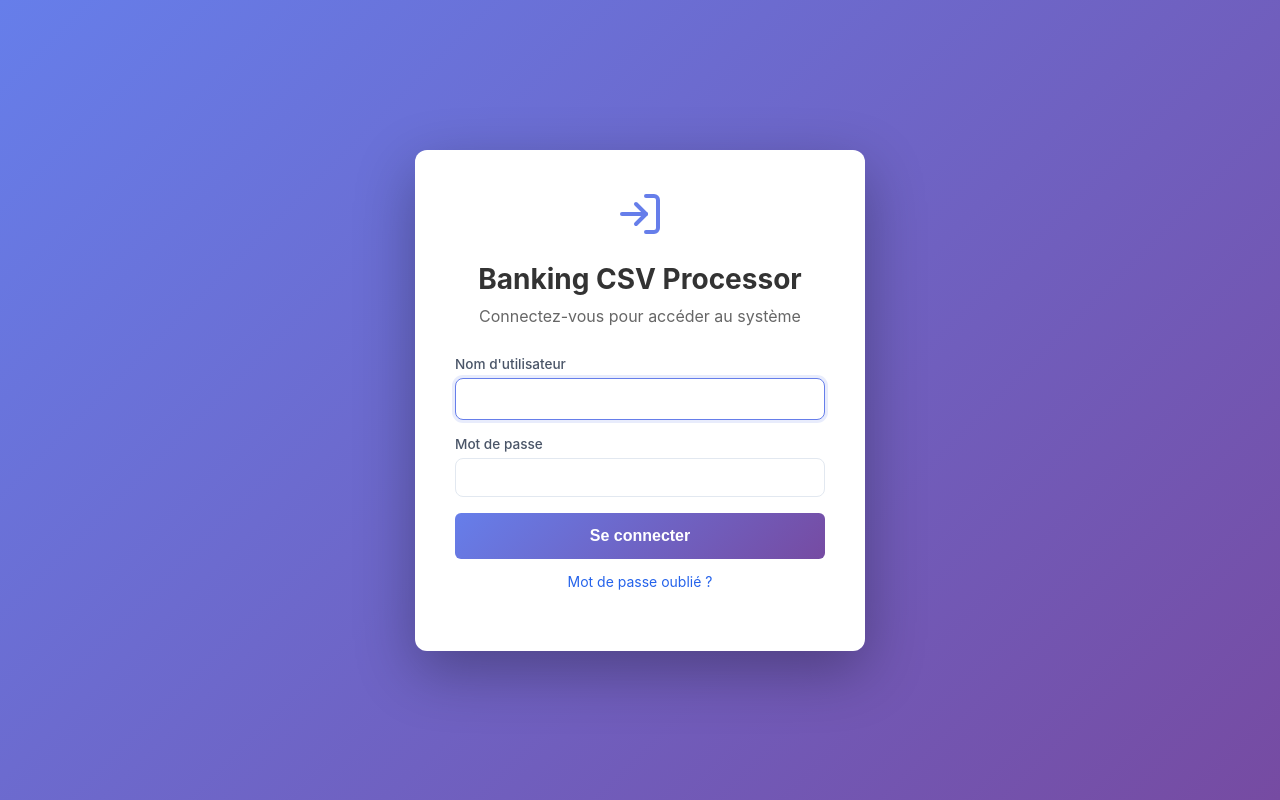
it: Login › shows error message on failed login
Type "wrong" into the field labelled "Nom d'utilisateur" at coordinates (640, 398), box [455, 378, 825, 420]
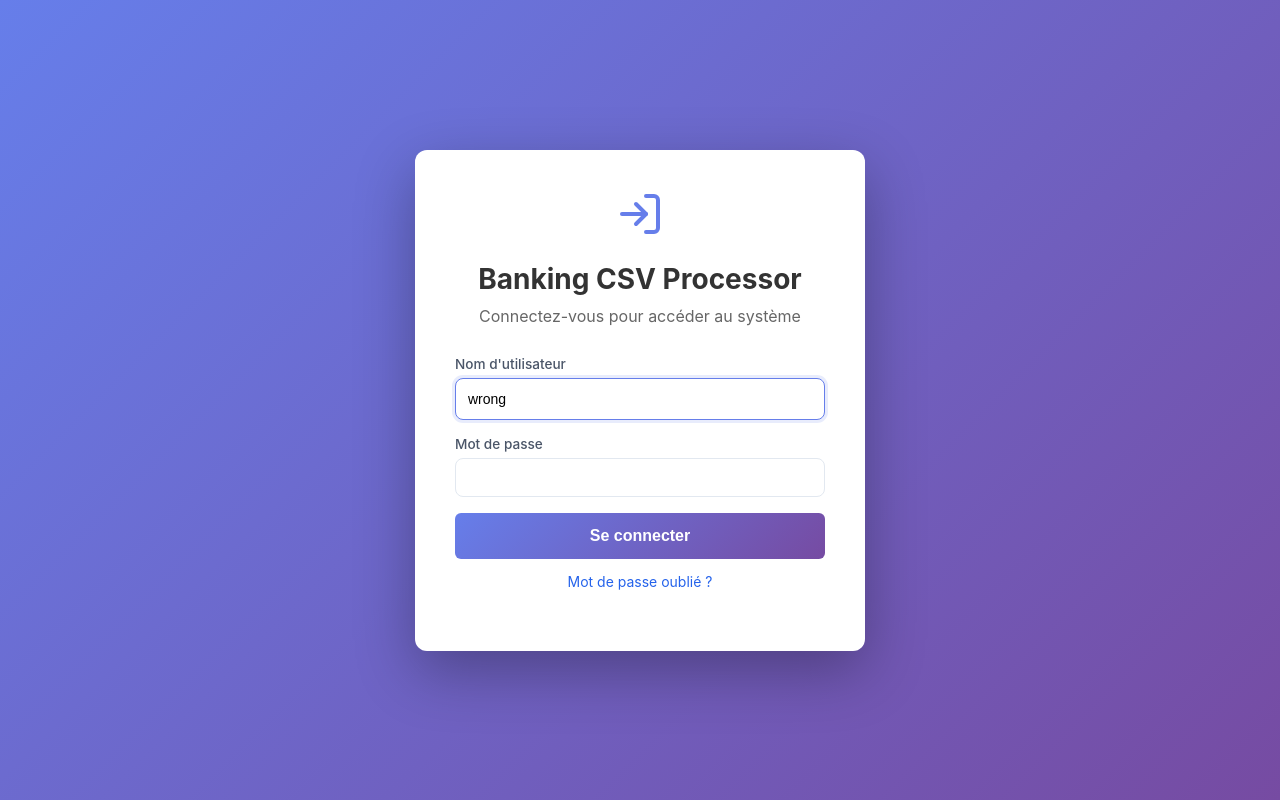
Type "wrong" into the password field labelled "Mot de passe" at coordinates (640, 477), box [455, 458, 825, 496]
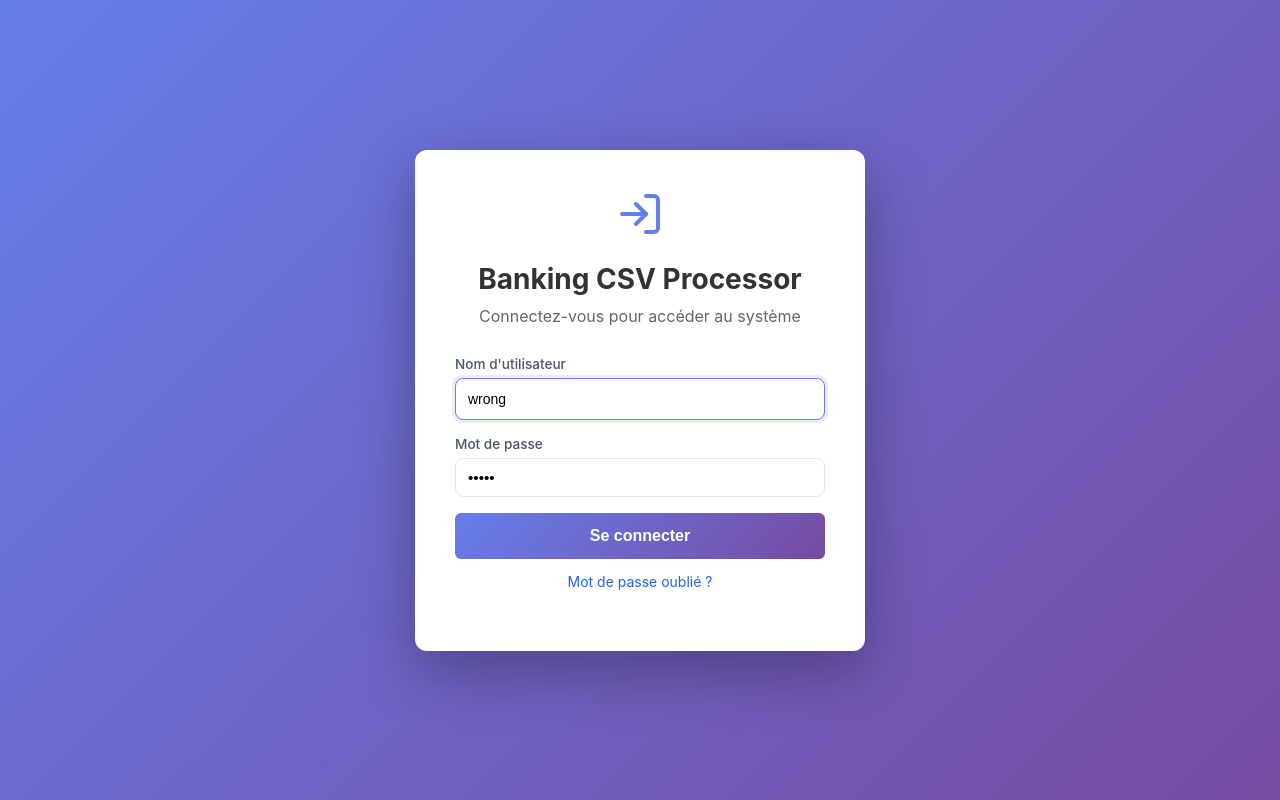
Click the button "Se connecter" at coordinates (640, 536), box [455, 512, 825, 558]
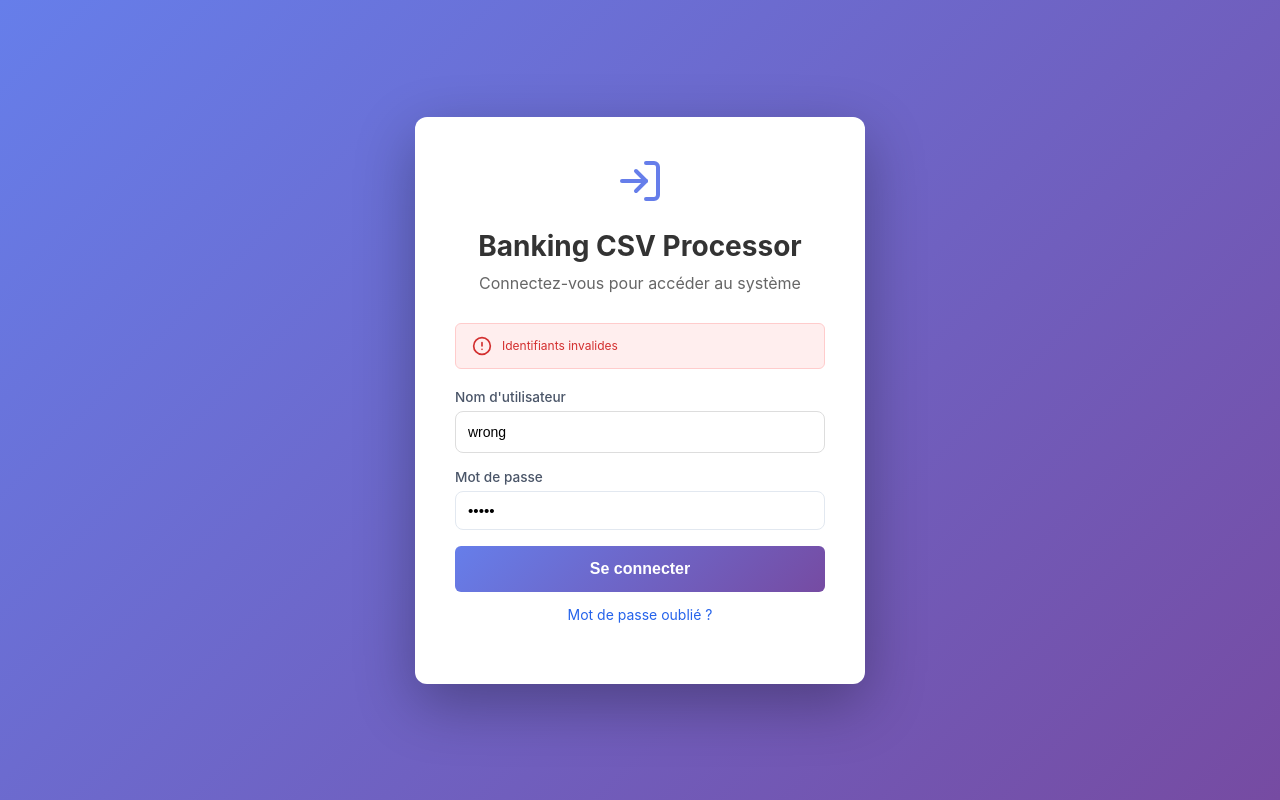
Expected: the text "Identifiants invalides" is shown, [502, 338, 618, 353]
